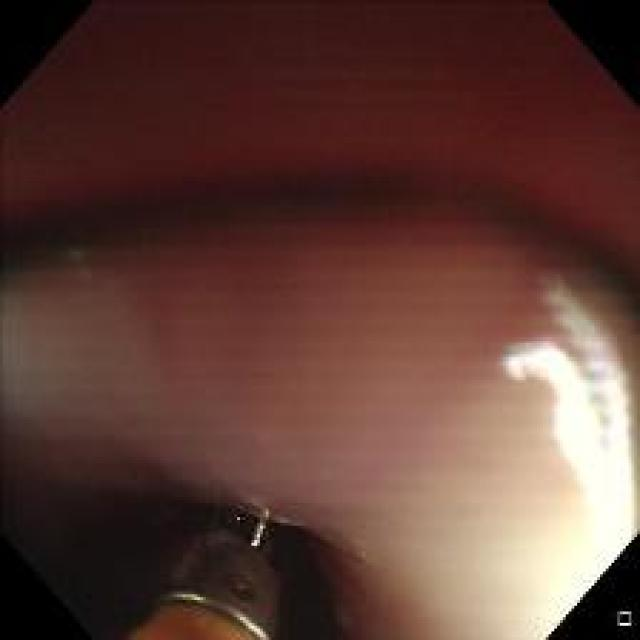blur: (18, 24, 609, 364)
color misalignment: (534, 274, 629, 441), (502, 344, 545, 385)
contrast: (22, 166, 619, 294), (24, 481, 360, 630)
instrument: (141, 499, 311, 634)
saturation: (532, 356, 635, 628)
specularity: (248, 516, 266, 546)
